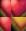heart: (11, 0, 26, 17), (0, 0, 11, 17), (0, 17, 11, 31)
